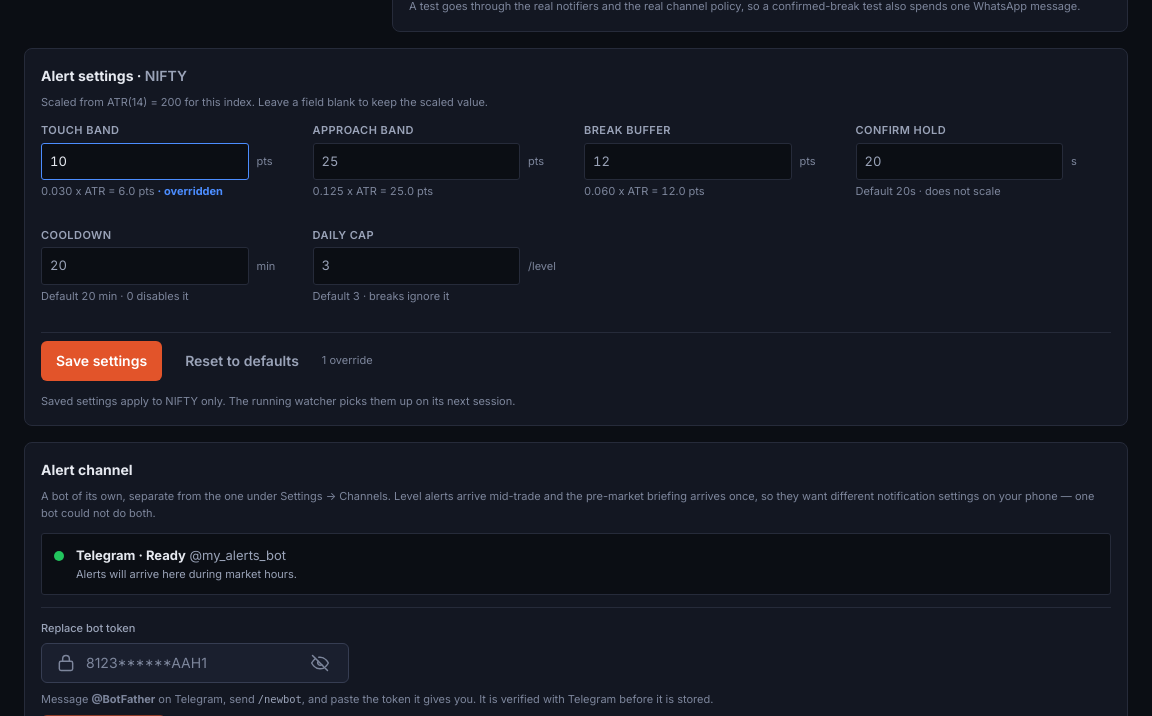
Scenario: the alert settings panel › clears every override on reset
(page scrolled)
Expected: the number field labelled "Touch band" holds "10", [41, 143, 248, 180]
Step 1. Click the button "Reset to defaults" → {"x": 242, "y": 361}, box [170, 341, 314, 381]
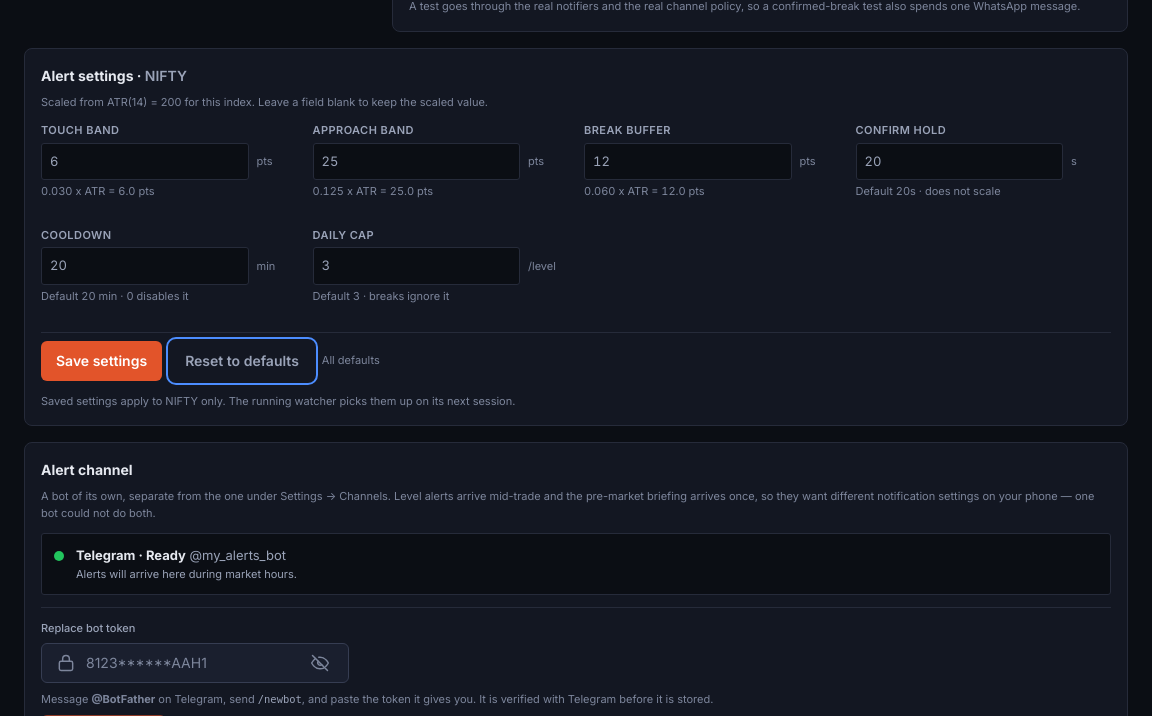
Expected: the number field labelled "Touch band" is not empty, [41, 143, 248, 180]
Expected: the text "All defaults" is shown, [322, 352, 380, 369]
